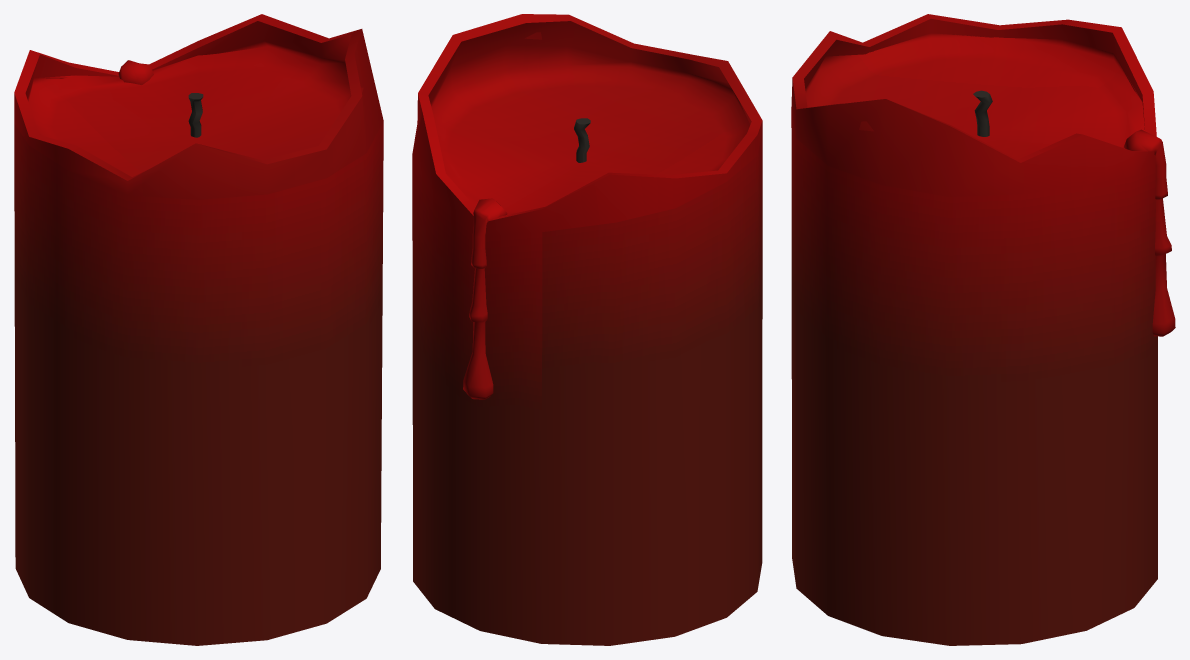
The model's file is Big_candle.fbx.
3 views of the same model, side by side, from view 1: azimuth 30°, elevation 25°; view 2: azimuth 150°, elevation 25°; view 3: azimuth 270°, elevation 25° (orthographic). The views are drawn at different scales.
Visible parts, largest first — view 1: polySurface38; view 2: polySurface38; view 3: polySurface38.
Boxes of the visible parts, box(x1,y1,x2,y2) form: polySurface38: box(14, 14, 383, 645); polySurface38: box(412, 14, 762, 645); polySurface38: box(791, 14, 1175, 645).
Bounding box in the file's own units: 0.8365 × 1.31 × 0.8665.
